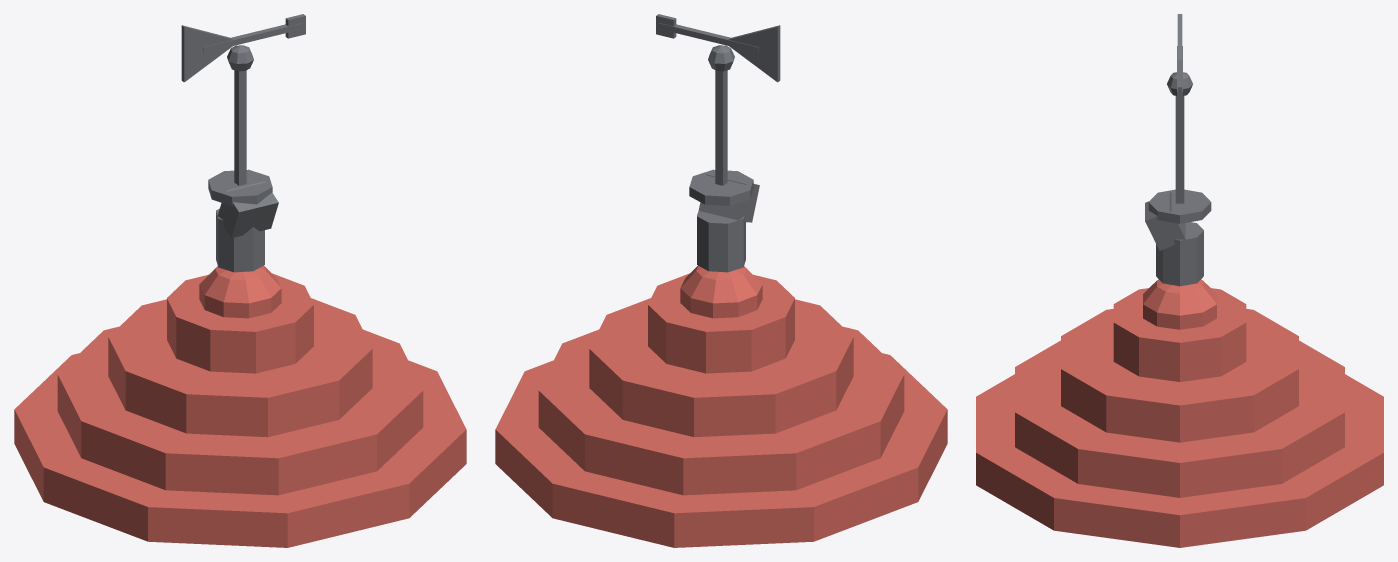
File: lighthouse-and-rocky-coast-lighthouse-dome-and-vane-d40efb1a__36590.glb
3 views of the same model, side by side, from view 1: azimuth 30°, elevation 25°; view 2: azimuth 150°, elevation 25°; view 3: azimuth 270°, elevation 25° (orthographic). The views are drawn at different scales.
Parts seen in each view (by area): view 1: lighthouse-dome-and-vane, vent, vane; view 2: lighthouse-dome-and-vane, vent, vane; view 3: lighthouse-dome-and-vane, vent, vane.
Part boxes in pixels (x1,y1,x2,y2): lighthouse-dome-and-vane: [14, 70, 466, 547]; vent: [208, 169, 278, 272]; vane: [181, 14, 305, 82]; lighthouse-dome-and-vane: [495, 70, 947, 547]; vent: [689, 169, 759, 272]; vane: [656, 14, 780, 82]; lighthouse-dome-and-vane: [976, 96, 1383, 547]; vent: [1145, 189, 1211, 286]; vane: [1167, 14, 1192, 104].
Size of the model in its own units: 3.56 by 3.82 by 3.39.
